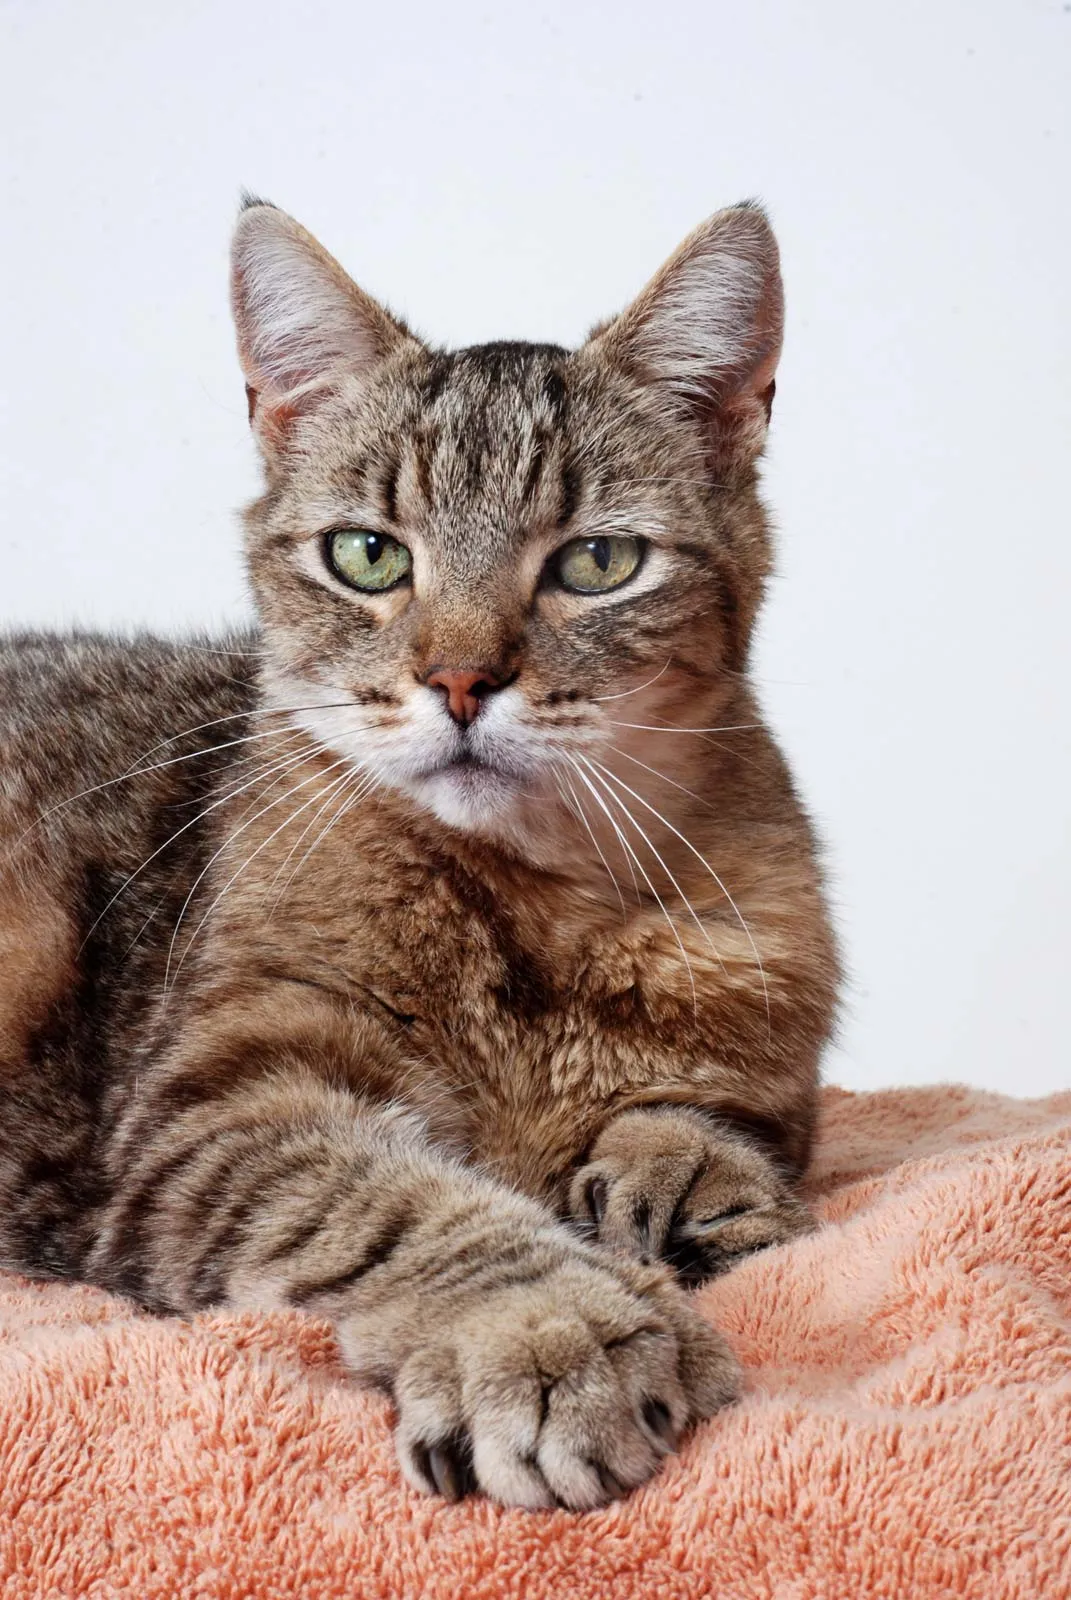cat: (1, 186, 834, 1469)
